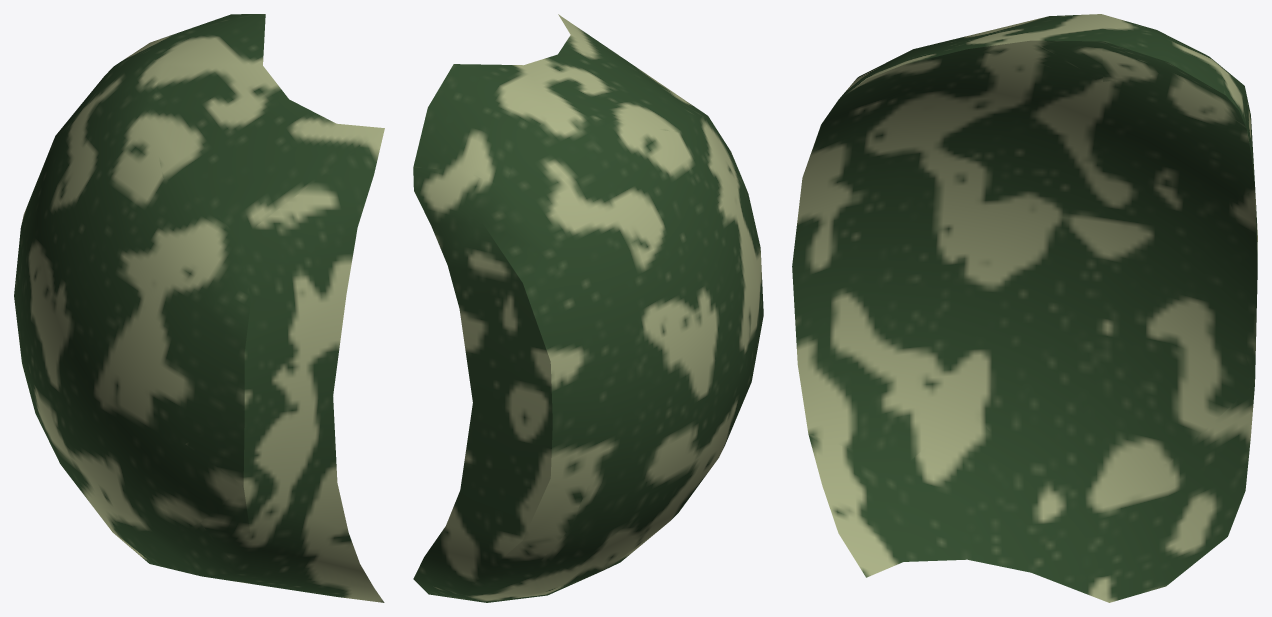
File: link_body_04_composite.obj
3 views of the same model, side by side, from view 1: azimuth 30°, elevation 25°; view 2: azimuth 150°, elevation 25°; view 3: azimuth 270°, elevation 25° (orthographic). The views are drawn at different scales.
Size of the model in its own units: 8.65 by 18.22 by 13.63.
1 material, 1 textured.
